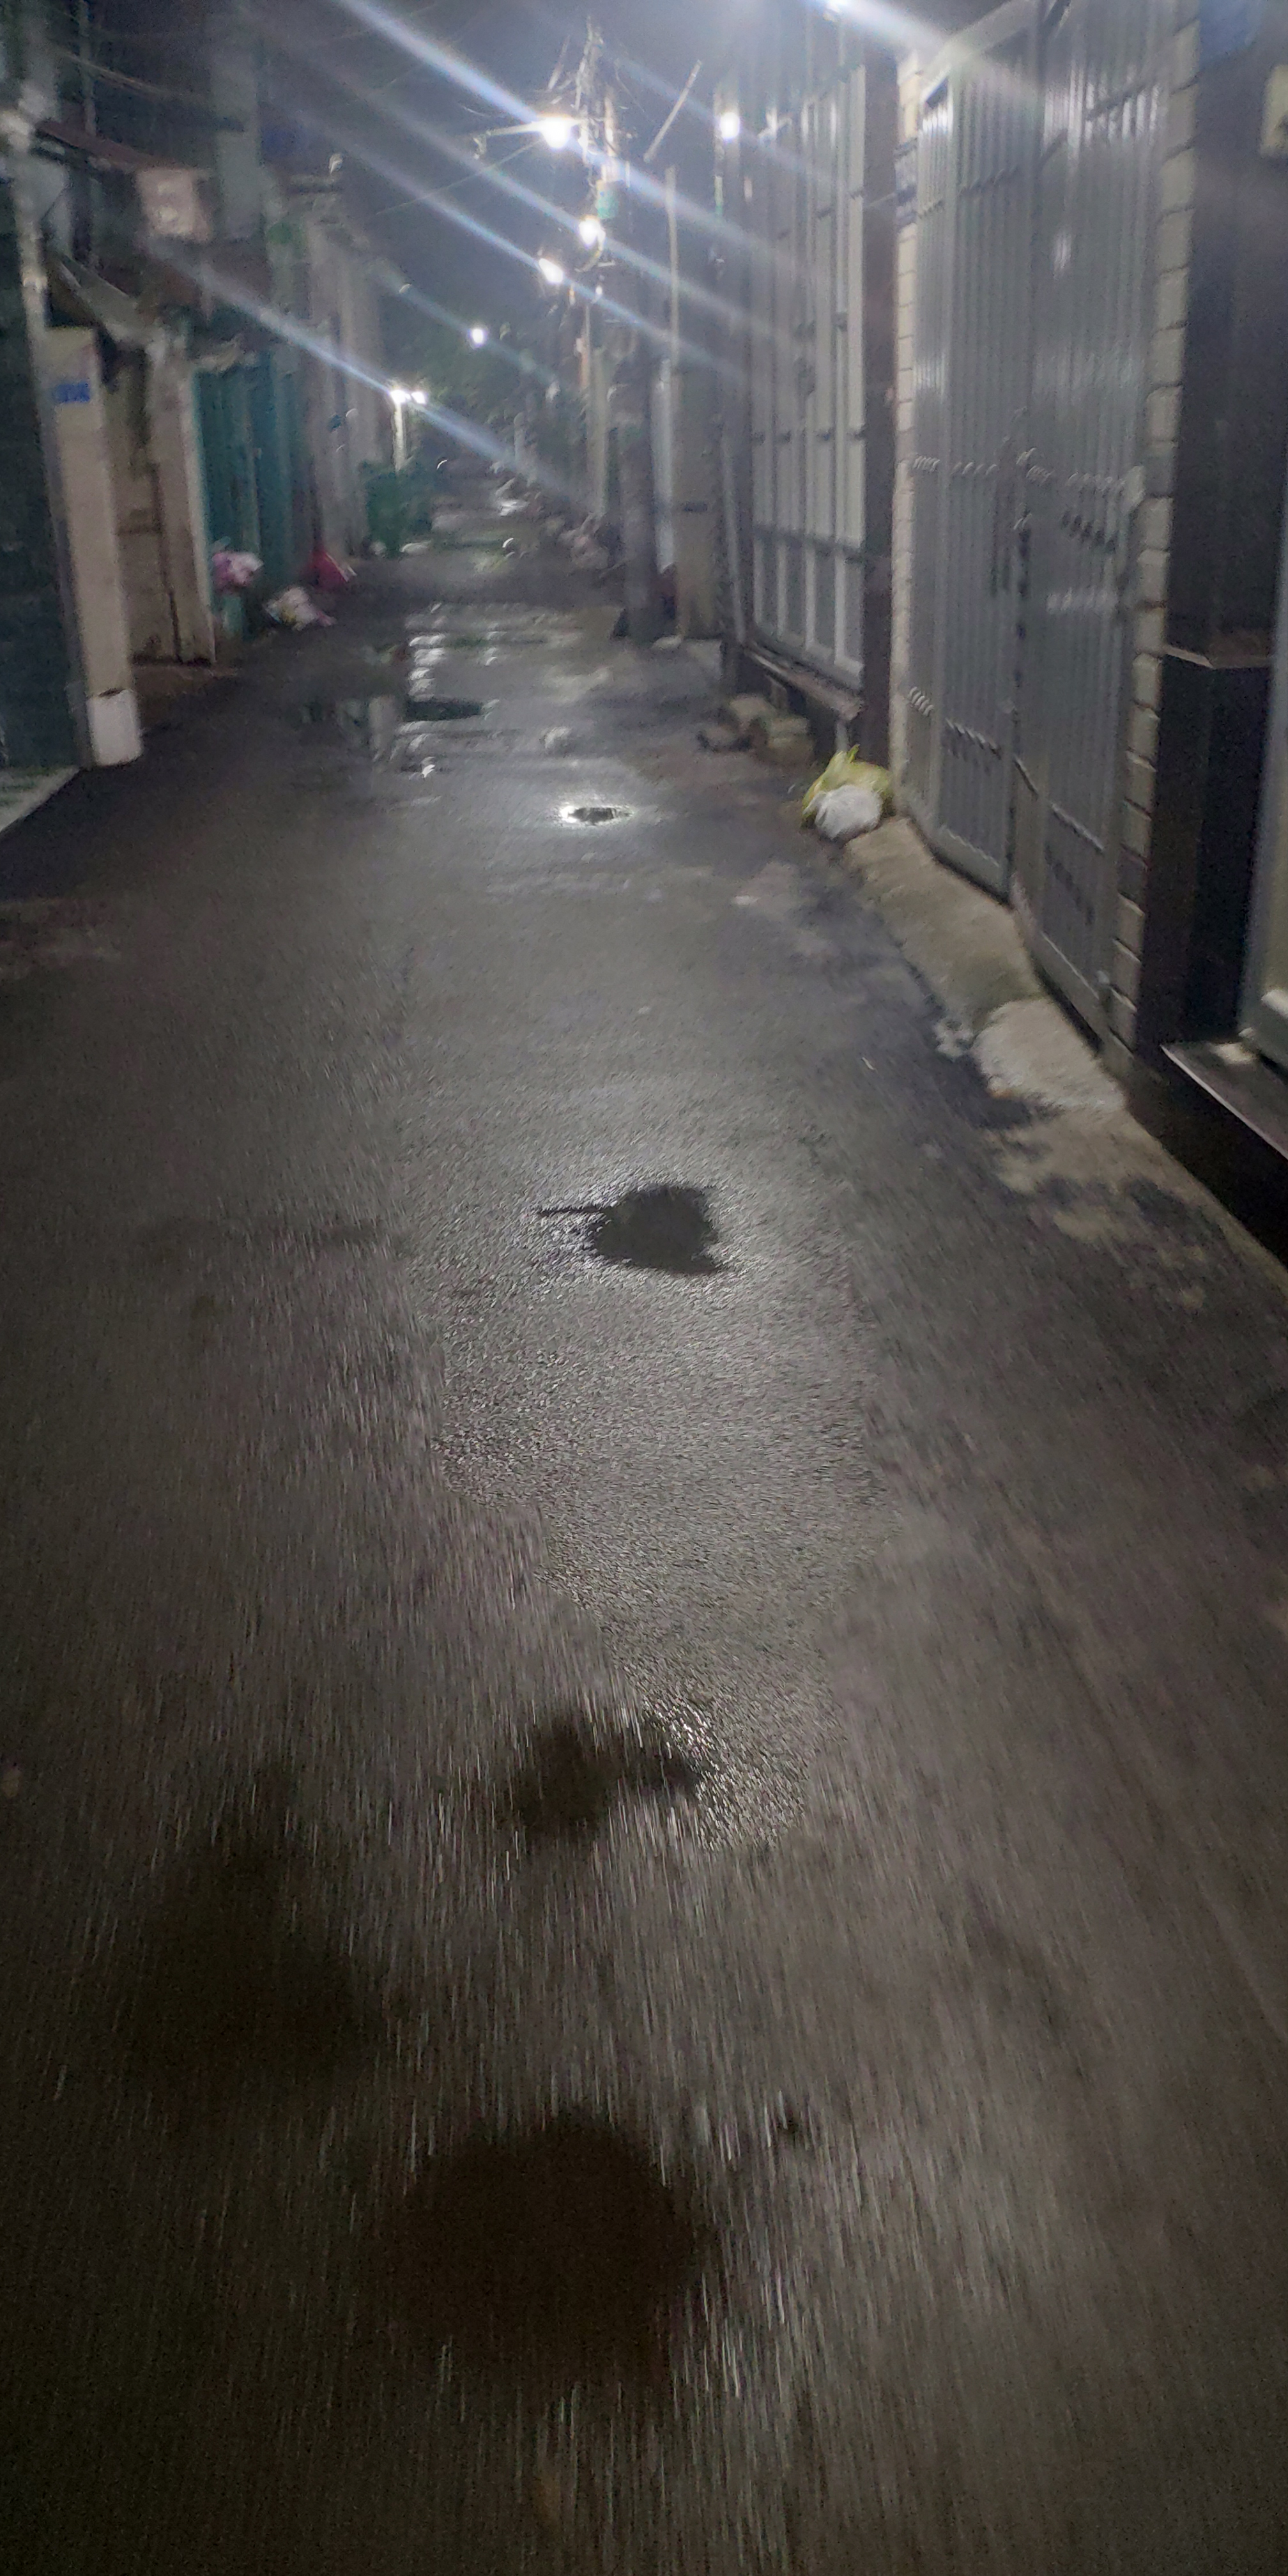hole: (368, 2086, 808, 2418), (61, 1774, 384, 2123), (429, 1684, 789, 1899), (499, 1165, 772, 1316), (279, 688, 498, 736), (361, 636, 562, 672), (554, 798, 637, 828), (376, 757, 457, 779)
